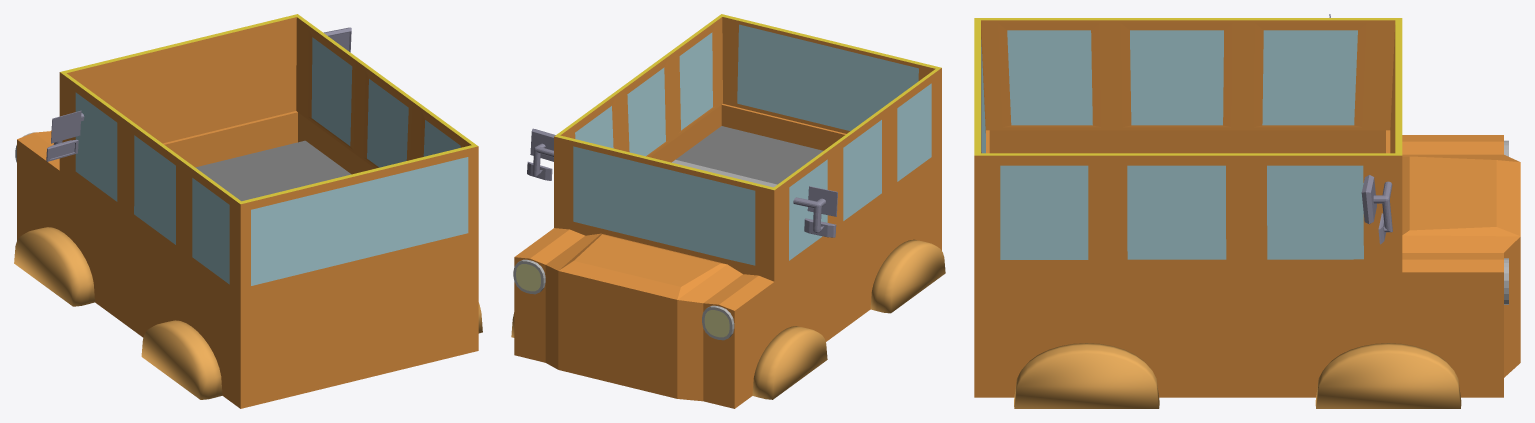
File: full_bus.fbx
3 views of the same model, side by side, from view 1: azimuth 30°, elevation 25°; view 2: azimuth 150°, elevation 25°; view 3: azimuth 270°, elevation 25° (orthographic). The views are drawn at different scales.
Visible parts, largest first — view 1: Cube.014; view 2: Cube.014; view 3: Cube.014.
Part boxes in pixels (bbox=[...]): Cube.014: bbox=[14, 14, 482, 408]; Cube.014: bbox=[511, 14, 945, 408]; Cube.014: bbox=[974, 14, 1520, 408].
Size of the model in its own units: 252 by 156 by 319.
